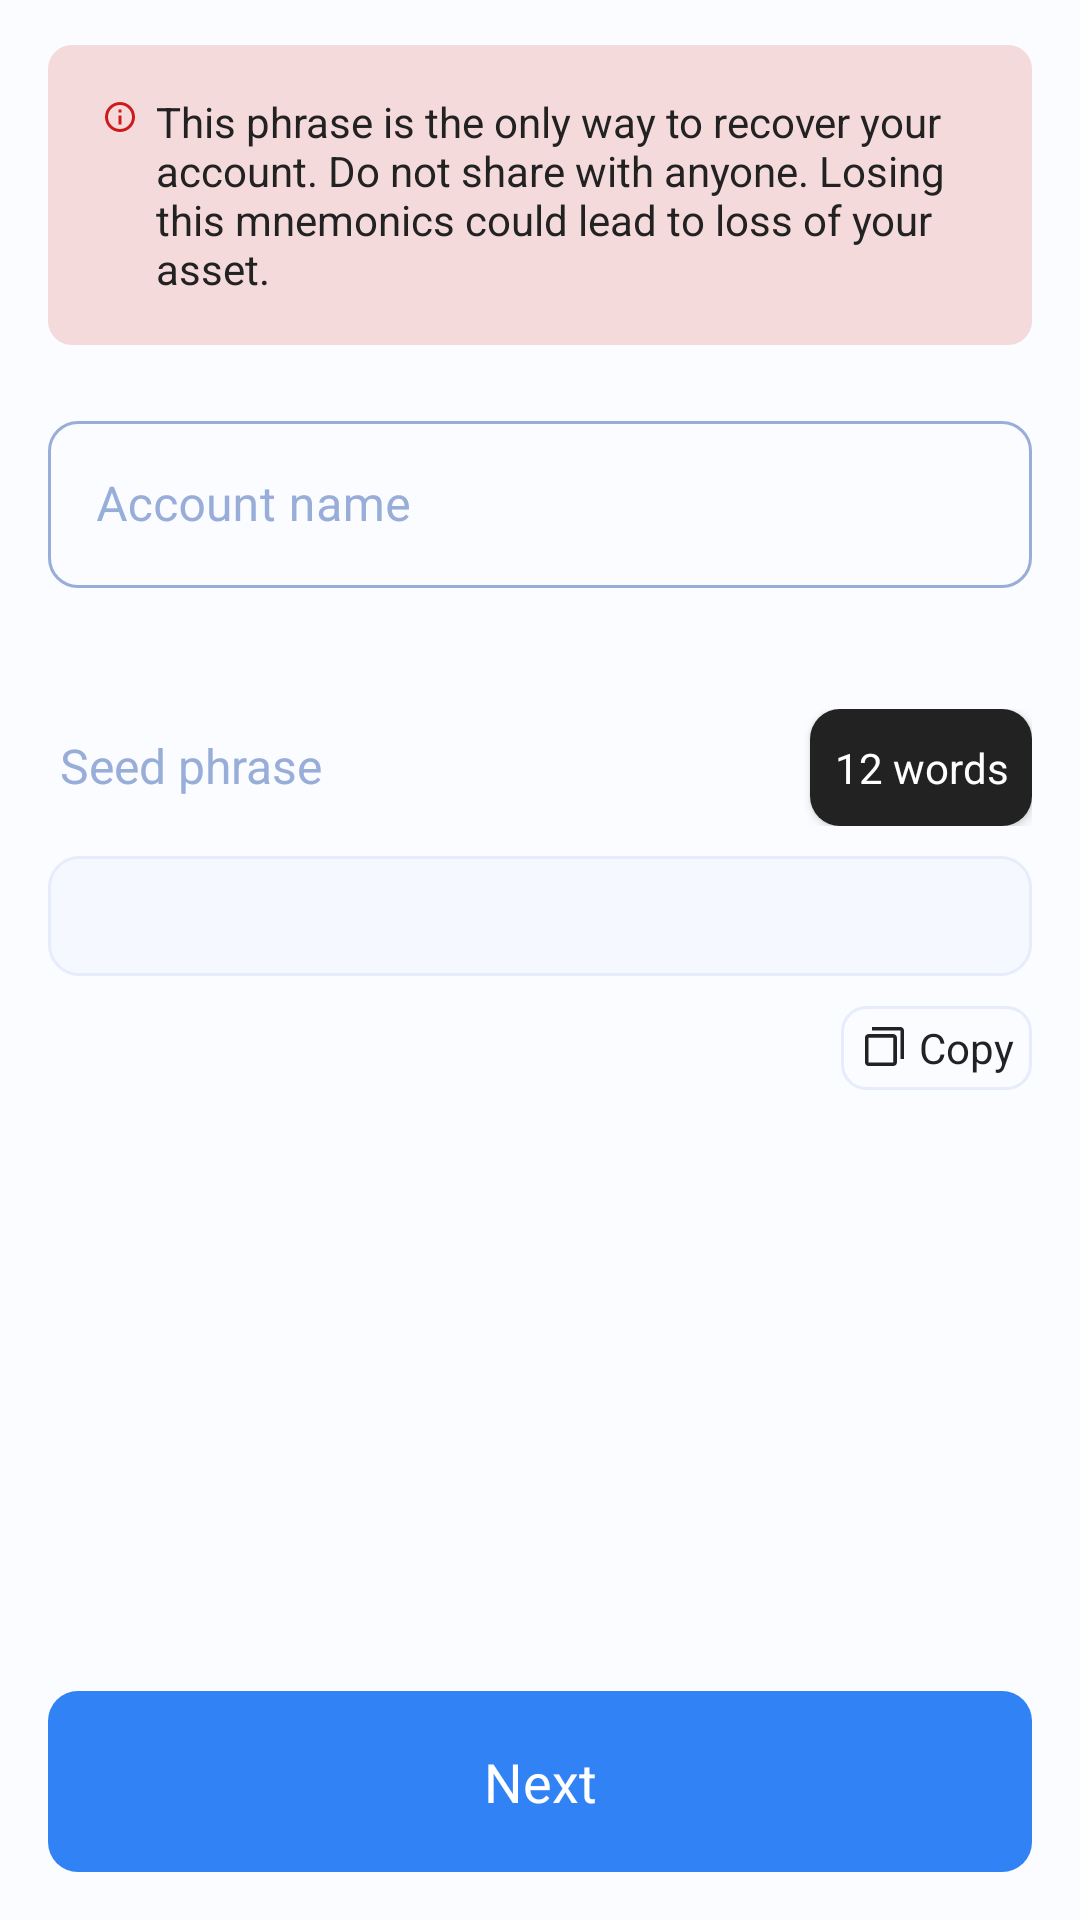

Where icons sit on this 1080px×1920px app screen, as (x1,y1,x2,y2):
info: (105,102,135,132)
